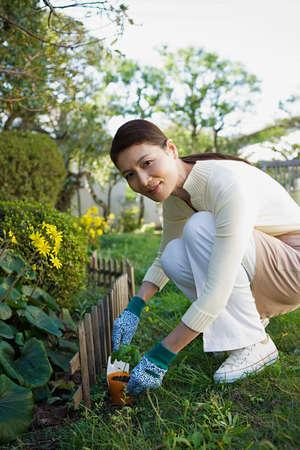person: (105, 116, 300, 408)
